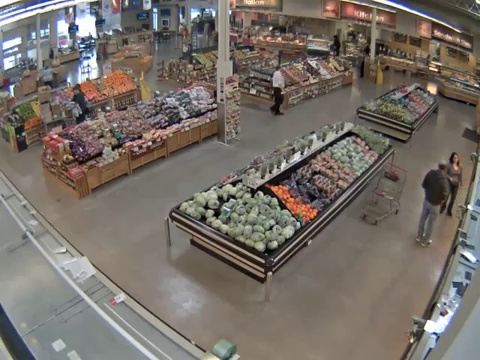face: (451, 152, 460, 163)
